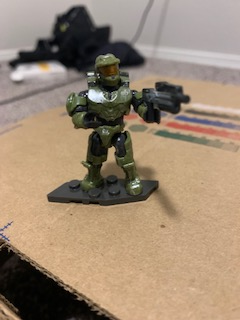chief: (67, 50, 159, 196)
rifle: (141, 81, 190, 122)
spartan: (69, 52, 161, 198)
